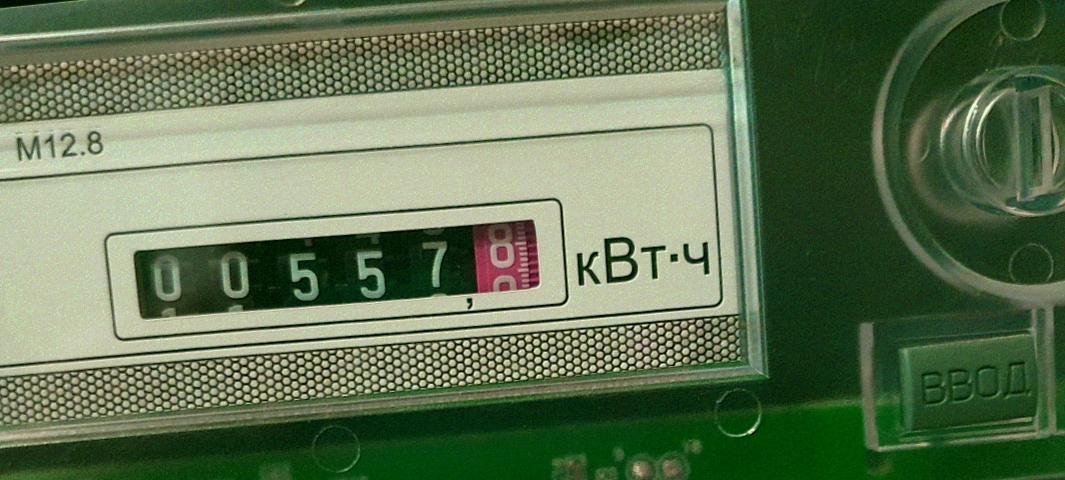0: (146, 247, 186, 306), (214, 246, 253, 301)
5: (349, 241, 393, 303), (283, 245, 323, 305)
7: (415, 234, 453, 292)
8: (485, 220, 517, 272)
screen: (97, 177, 577, 356)
